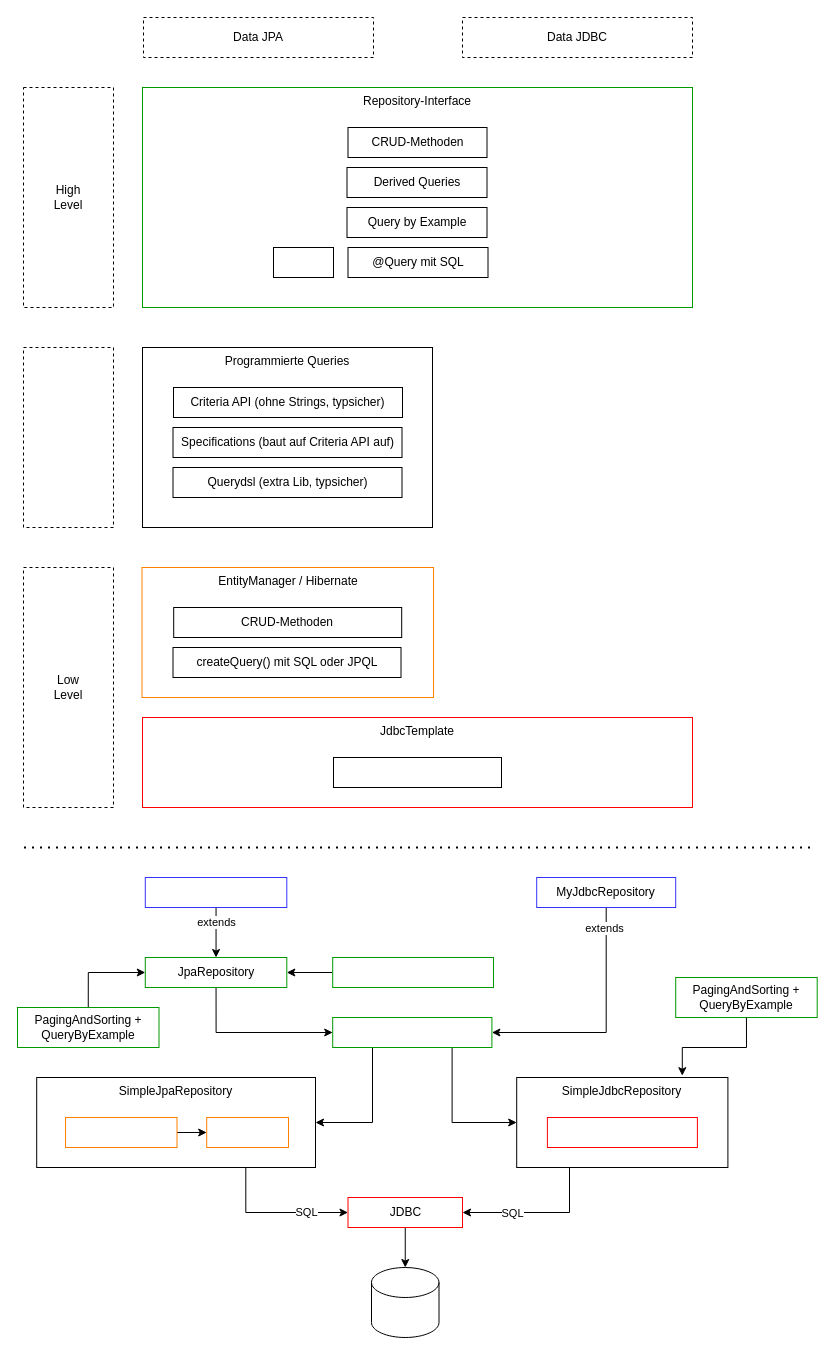
Some shapes in this 835 by 1355 pixel diagram are drawn without their labels. Here are the shapes that lost their labels. From the top down, the centre of each, then its label:
At point 303,262: "+ JPQL".
At point 68,437: "Mid Level".
At point 417,772: ".query() mit SQL".
At point 215,892: "MyJpaRepository".
At point 413,972: "ListCrudRepository".
At point 412,1032: "CrudRepository".
At point 120,1132: "EntityManager".
At point 247,1132: "Hibernate".
At point 621,1132: "JdbcAggregateTemplate".
At point 404,1302: "DB".
